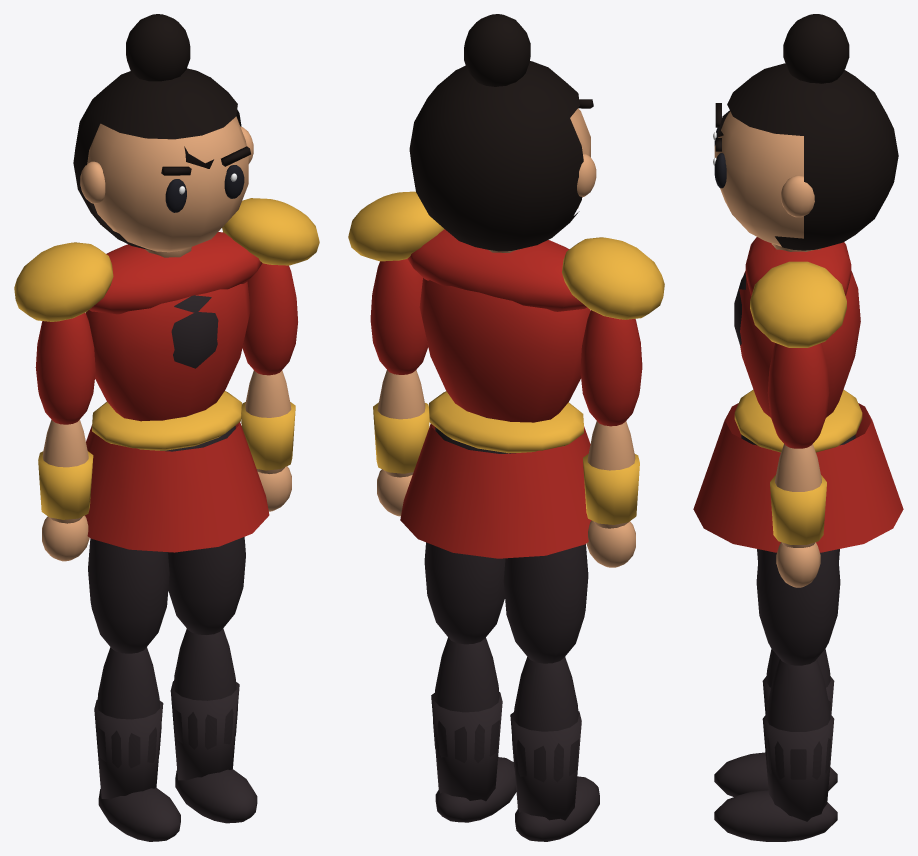
The model's file is warden_fire.glb.
The picture shows the model from 3 angles, left to right: view 1: azimuth 30°, elevation 25°; view 2: azimuth 150°, elevation 25°; view 3: azimuth 270°, elevation 25°; orthographic projection. The views are drawn at different scales.
Parts seen in each view (by area): view 1: Torso, Head, Hips, LowerLegR, LowerLegL, UpperLegR, LowerArmR, UpperLegL, UpperArmR, LowerArmL, UpperArmL; view 2: Torso, Head, Hips, LowerLegR, LowerLegL, UpperLegR, LowerArmR, UpperLegL, UpperArmR, LowerArmL, UpperArmL; view 3: Head, Hips, Torso, LowerLegL, UpperLegL, LowerArmL, UpperArmL, LowerLegR.
Boxes of the visible parts, x1,y1,x2,y2 form: Torso: (14, 198, 319, 421); Head: (73, 14, 253, 257); Hips: (85, 391, 269, 552); LowerLegR: (94, 647, 180, 841); LowerLegL: (170, 628, 257, 823); UpperLegR: (88, 538, 169, 653); LowerArmR: (38, 419, 93, 561); UpperLegL: (168, 537, 245, 634); UpperArmR: (35, 312, 95, 424); LowerArmL: (241, 370, 295, 511); UpperArmL: (242, 263, 297, 375); Torso: (348, 191, 664, 422); Head: (409, 14, 596, 252); Hips: (400, 391, 591, 558); LowerLegR: (510, 657, 599, 841); LowerLegL: (431, 637, 516, 822); UpperLegR: (503, 544, 588, 663); LowerArmR: (583, 421, 639, 567); UpperLegL: (424, 542, 505, 644); UpperArmR: (580, 310, 642, 426); LowerArmL: (373, 370, 429, 516); UpperArmL: (370, 259, 428, 374); Head: (713, 14, 898, 251); Hips: (693, 389, 903, 552); Torso: (734, 237, 860, 417); LowerLegL: (714, 659, 837, 841); UpperLegL: (756, 549, 840, 665); LowerArmL: (770, 444, 826, 587); UpperArmL: (767, 343, 829, 448); LowerLegR: (714, 648, 837, 796).
Size of the model in its own units: 0.7648 by 1.98 by 0.47.
